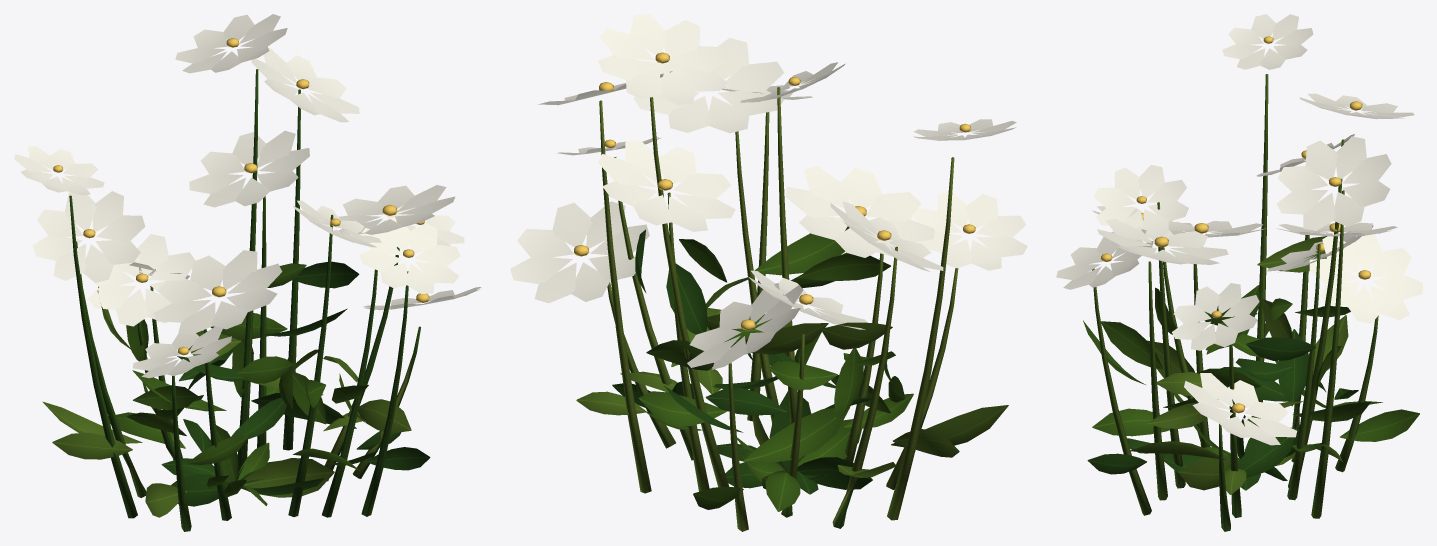
File: White_flowers_2.glb
3 renders of one model, left to right at view 1: azimuth 30°, elevation 25°; view 2: azimuth 150°, elevation 25°; view 3: azimuth 270°, elevation 25°, orthographic. The views are drawn at different scales.
Parts seen in each view (by area): view 1: White_flowers_2_Flowers.003, White_flowers_2_Leaves.004, White_flowers_2_Stems.004, White_flowers_2_Centers.003; view 2: White_flowers_2_Flowers.003, White_flowers_2_Leaves.004, White_flowers_2_Stems.004, White_flowers_2_Centers.003; view 3: White_flowers_2_Flowers.003, White_flowers_2_Leaves.004, White_flowers_2_Stems.004, White_flowers_2_Centers.003.
Part boxes in pixels (x1=…): White_flowers_2_Flowers.003: x1=14, y1=14, x2=481, y2=378; White_flowers_2_Leaves.004: x1=42, y1=261, x2=430, y2=517; White_flowers_2_Stems.004: x1=69, y1=69, x2=420, y2=531; White_flowers_2_Centers.003: x1=53, y1=38, x2=429, y2=355; White_flowers_2_Flowers.003: x1=510, y1=14, x2=1027, y2=369; White_flowers_2_Leaves.004: x1=576, y1=226, x2=1008, y2=511; White_flowers_2_Stems.004: x1=599, y1=87, x2=958, y2=531; White_flowers_2_Centers.003: x1=574, y1=52, x2=975, y2=330; White_flowers_2_Flowers.003: x1=1056, y1=14, x2=1422, y2=445; White_flowers_2_Leaves.004: x1=1083, y1=236, x2=1419, y2=516; White_flowers_2_Stems.004: x1=1092, y1=74, x2=1378, y2=531; White_flowers_2_Centers.003: x1=1101, y1=36, x2=1370, y2=413.
Bounding box in the file's own units: 1.12 × 1.01 × 0.8149.
3 materials, 1 textured.
